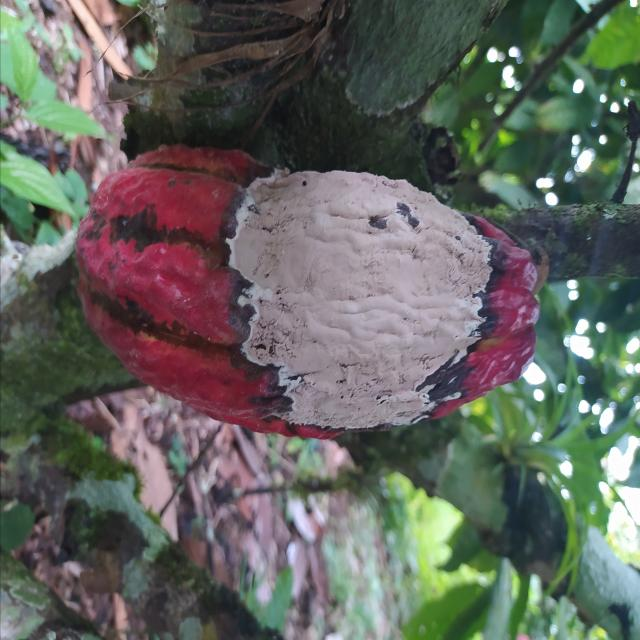Monilia: (74, 144, 538, 442)
